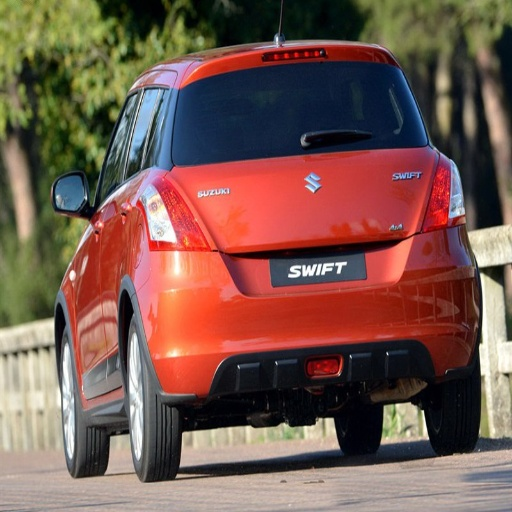back_bumper: (159, 227, 486, 399)
back_glass: (176, 69, 288, 163), (332, 91, 413, 143)
back_left_light: (123, 176, 216, 252)
front_glass: (281, 62, 399, 102)
tailgate: (184, 189, 259, 278), (368, 167, 429, 264)
trunk: (168, 147, 438, 303)
